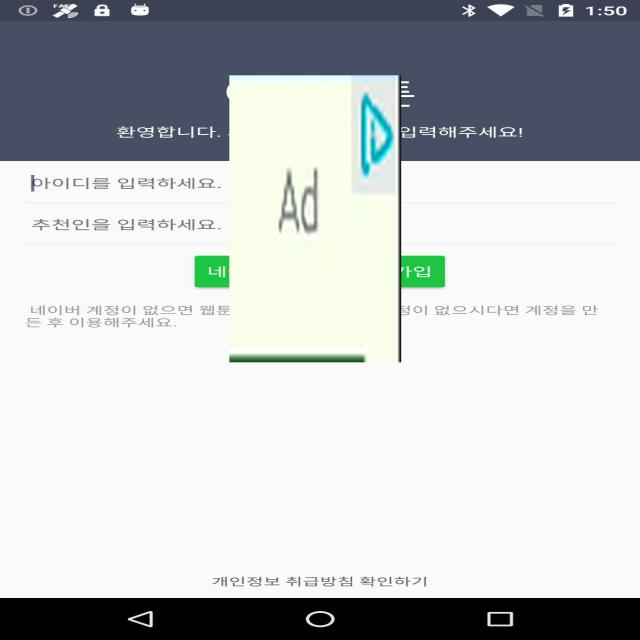sneaking: (230, 75, 402, 362)
